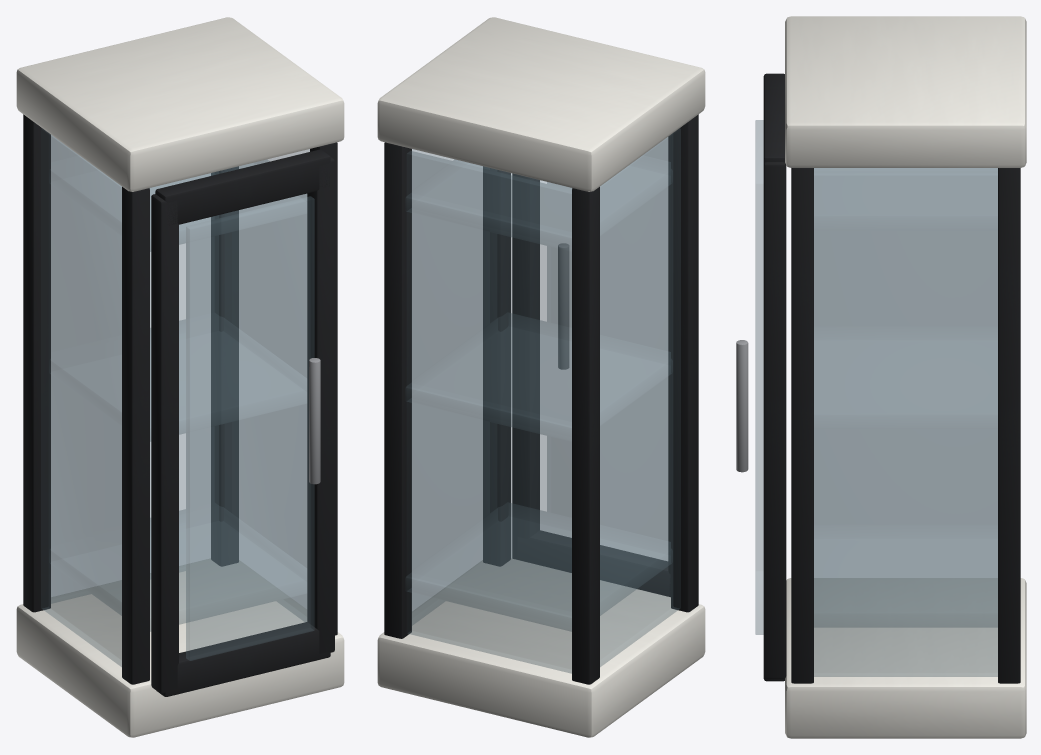
The model's file is pf_display_glass_display_tower_t1.glb.
3 views of the same model, side by side, from view 1: azimuth 30°, elevation 25°; view 2: azimuth 150°, elevation 25°; view 3: azimuth 270°, elevation 25° (orthographic). The views are drawn at different scales.
Parts seen in each view (by area): view 1: Door_Glass_01, Tower_Glass_2, Tower_Top, Tower_Glass_1, Tower_Base, Tower_Glass_3, Tower_Post_-0.23_-0.20, Door_Frame_01_L, Tower_Post_-0.23_+0.20, Shelf_01, Shelf_02, Door_Frame_01_R (+6 smaller); view 2: Tower_Glass_1, Tower_Glass_2, Tower_Top, Tower_Base, Door_Glass_01, Tower_Glass_3, Shelf_02, Shelf_01, Tower_Post_-0.23_+0.20, Tower_Post_+0.23_+0.20, Tower_Post_-0.23_-0.20, Shelf_03 (+5 smaller); view 3: Tower_Glass_3, Tower_Top, Tower_Glass_2, Tower_Base, Shelf_01, Shelf_02, Door_Frame_01_R, Tower_Post_+0.23_+0.20, Tower_Post_+0.23_-0.20, Shelf_03, Door_Glass_01, Door_Frame_01_Top (+1 smaller).
Part boxes in pixels (<box>): Door_Glass_01: <box>186,196,314,660</box>; Tower_Glass_2: <box>41,129,121,666</box>; Tower_Top: <box>16,17,344,191</box>; Tower_Glass_1: <box>51,135,214,603</box>; Tower_Base: <box>16,558,344,737</box>; Tower_Glass_3: <box>232,149,309,621</box>; Tower_Post_-0.23_-0.20: <box>122,187,149,684</box>; Door_Frame_01_L: <box>151,194,178,693</box>; Tower_Post_-0.23_+0.20: <box>23,114,50,612</box>; Shelf_01: <box>50,508,306,631</box>; Shelf_02: <box>50,318,306,441</box>; Door_Frame_01_R: <box>307,156,334,653</box>; Tower_Glass_1: <box>407,151,571,673</box>; Tower_Glass_2: <box>600,129,680,666</box>; Tower_Top: <box>377,17,705,191</box>; Tower_Base: <box>377,558,705,737</box>; Door_Glass_01: <box>547,137,667,540</box>; Tower_Glass_3: <box>412,149,489,625</box>; Shelf_02: <box>406,313,671,441</box>; Shelf_01: <box>406,503,671,631</box>; Tower_Post_-0.23_+0.20: <box>572,187,599,684</box>; Tower_Post_+0.23_+0.20: <box>384,142,411,638</box>; Tower_Post_-0.23_-0.20: <box>671,114,698,612</box>; Shelf_03: <box>406,156,671,251</box>; Tower_Glass_3: <box>814,172,997,676</box>; Tower_Top: <box>785,16,1026,167</box>; Tower_Glass_2: <box>814,168,997,524</box>; Tower_Base: <box>785,578,1026,738</box>; Shelf_01: <box>814,525,997,627</box>; Shelf_02: <box>814,326,997,428</box>; Door_Frame_01_R: <box>763,162,786,678</box>; Tower_Post_+0.23_+0.20: <box>998,168,1020,683</box>; Tower_Post_+0.23_-0.20: <box>791,168,813,683</box>; Shelf_03: <box>814,168,997,229</box>; Door_Glass_01: <box>755,120,763,634</box>; Door_Frame_01_Top: <box>763,73,784,162</box>.
Size of the model in its own units: 0.52 by 1.35 by 0.577.
Materials: 5 (2 with a texture image).
